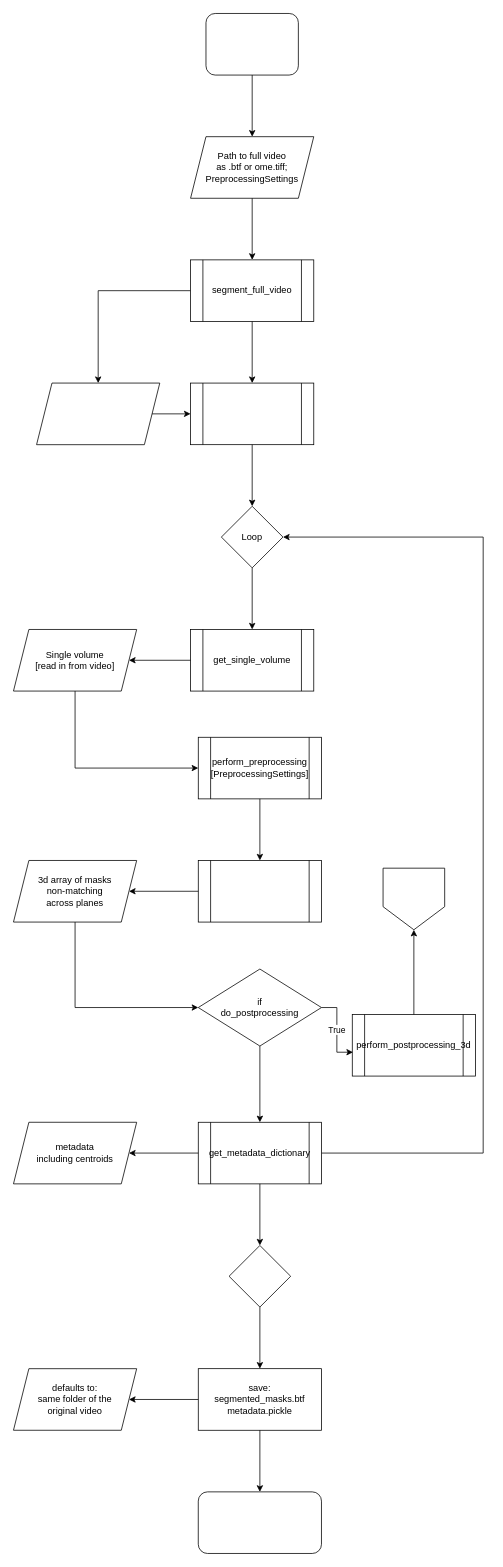
Some shapes in this 503 by 1567 pixel diagram are drawn without their labels. The shapes that lost their labels are listed below. From the top down, each one's box as (x1, y1, x2, y2) in pixels, then its label:
(205, 13, 298, 75): Start
(36, 382, 160, 445): Alias for which model to use
(190, 382, 314, 445): get_stardist_model
(198, 860, 321, 922): segment_with_stardist_3d
(228, 1245, 291, 1307): Loop end
(198, 1491, 321, 1553): Finish
